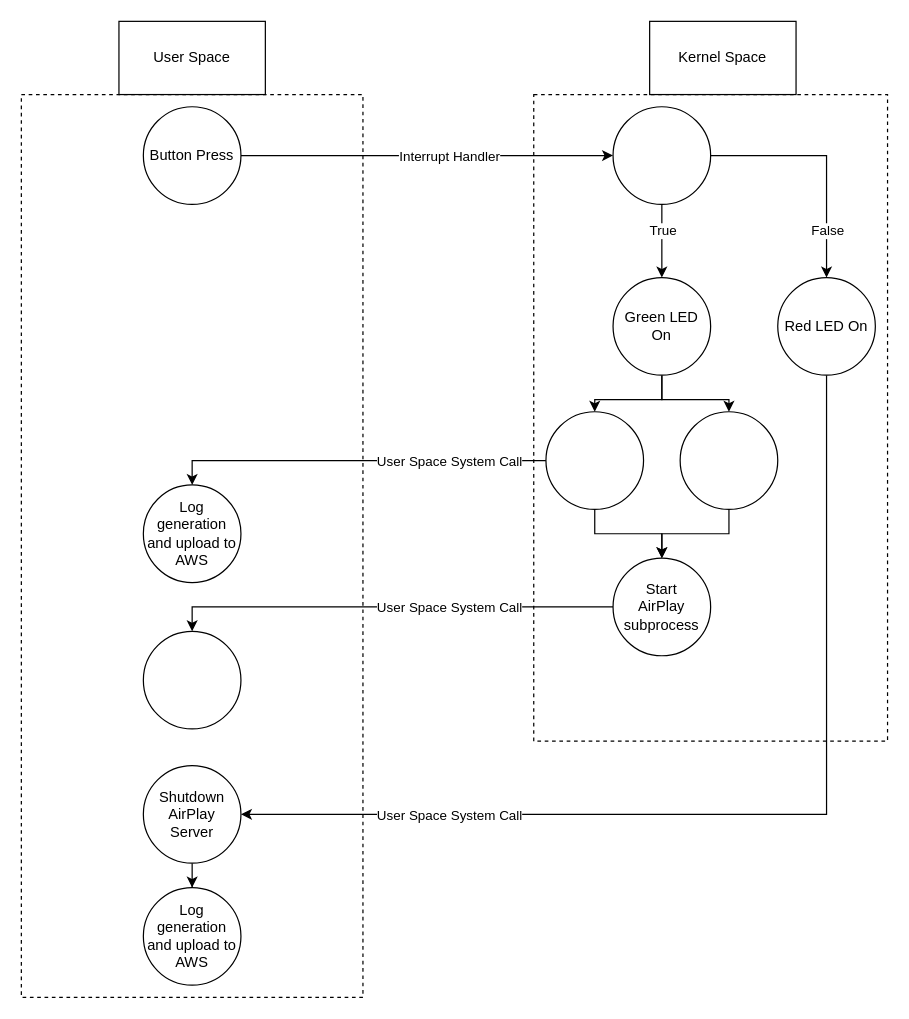
The diagram is 909 pixels wide and 1019 high, and some of its shapes have lost their labels. The centre of each missing label's shape, as x and y in pixels:
Blink LED: point 728,460
If State = off: point 661,155
Start AirPlay Server: point 191,679
Start Log Subprocess: point 594,460
